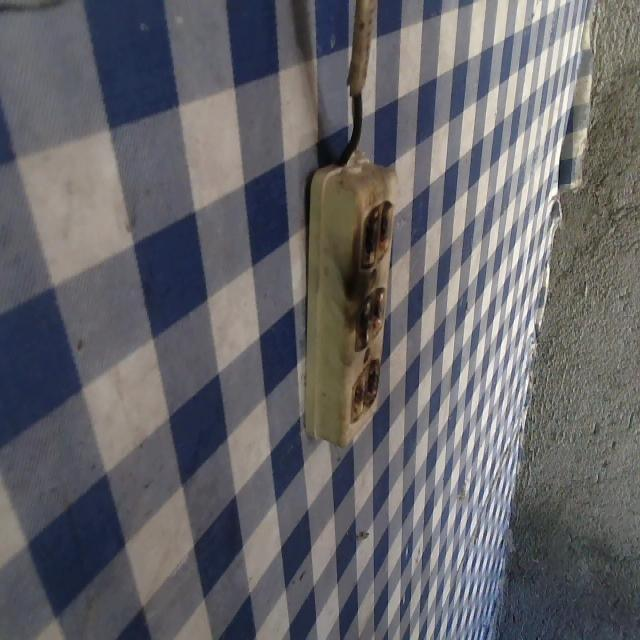-: (354, 196, 394, 269), (347, 358, 383, 422), (351, 283, 385, 349)
